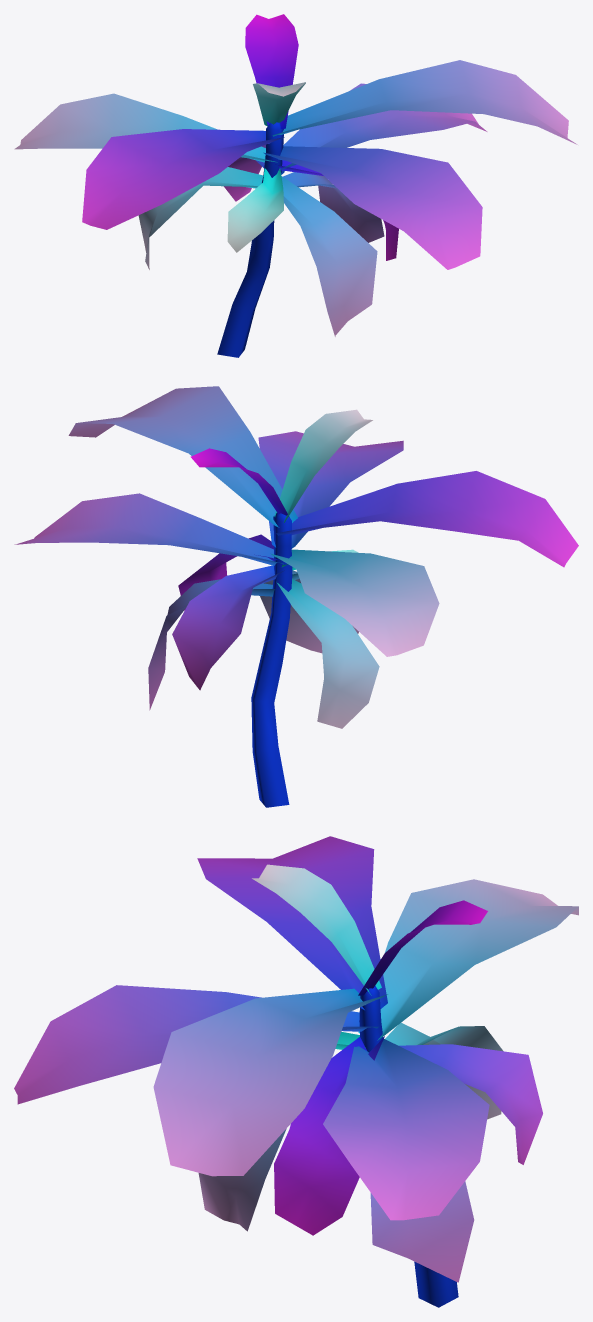
Rendered from Ground_Cover_sfcnq_Mid_sfcnq_VarB_LOD0.fbx.
The picture shows the model from 3 angles, top to bottom: view 1: azimuth 30°, elevation 25°; view 2: azimuth 150°, elevation 25°; view 3: azimuth 270°, elevation 25°; orthographic projection. The views are drawn at different scales.
Visible parts, largest first — view 1: _74f7_VarB_LOD1; view 2: _74f7_VarB_LOD1; view 3: _74f7_VarB_LOD1.
Part boxes in pixels (<box>): _74f7_VarB_LOD1: <box>14,14,577,357</box>; _74f7_VarB_LOD1: <box>14,386,578,807</box>; _74f7_VarB_LOD1: <box>14,836,578,1307</box>.
Size of the model in its own units: 40.89 by 25.96 by 31.9.
